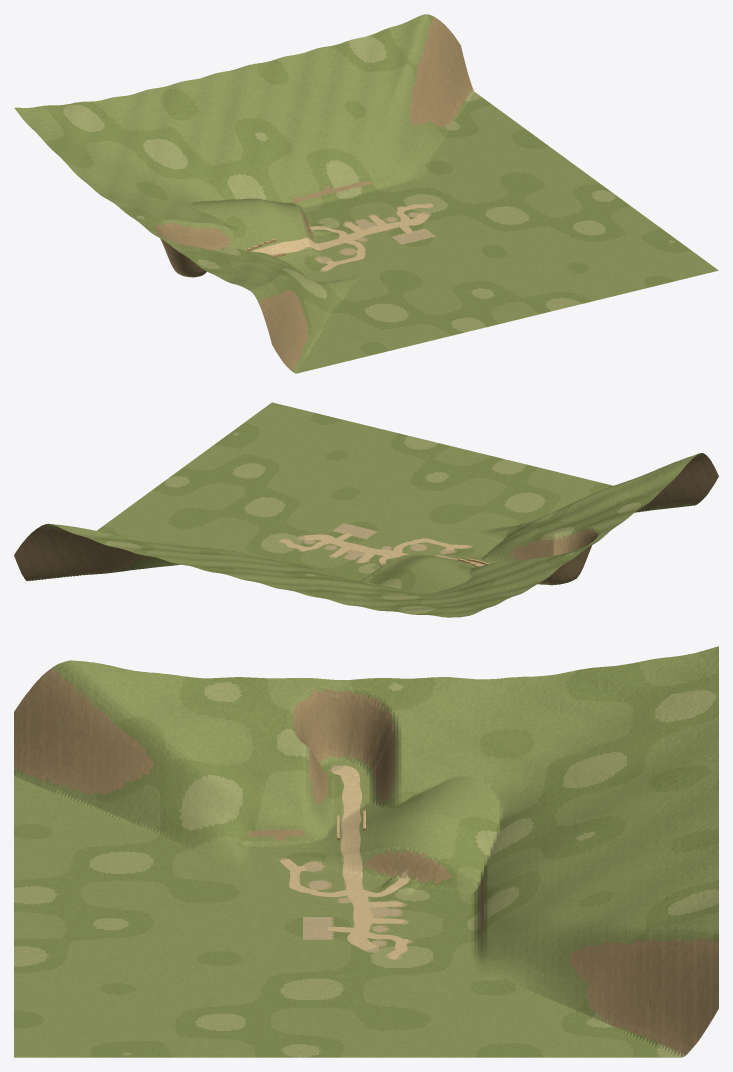
File: betania_cenario.glb
The picture shows the model from 3 angles, top to bottom: view 1: azimuth 30°, elevation 25°; view 2: azimuth 150°, elevation 25°; view 3: azimuth 270°, elevation 25°; orthographic projection. The views are drawn at different scales.
Visible parts, largest first — view 1: Betania_Terreno, Betania_Caminhos; view 2: Betania_Terreno, Betania_Caminhos; view 3: Betania_Terreno, Betania_Caminhos.
Part boxes in pixels (bbox=[...]): Betania_Terreno: bbox=[14, 14, 718, 373]; Betania_Caminhos: bbox=[251, 204, 433, 270]; Betania_Terreno: bbox=[14, 402, 718, 617]; Betania_Caminhos: bbox=[279, 533, 484, 565]; Betania_Terreno: bbox=[14, 646, 718, 1057]; Betania_Caminhos: bbox=[280, 765, 410, 959].
Bounding box in the file's own units: 155 × 27.62 × 155.
3 materials, 1 textured.
